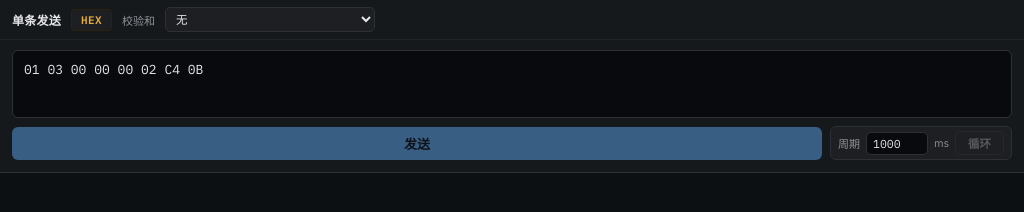
Test: SendPane › 含非法 UTF-8 字节的报文拒绝切成文本，并给出提示
Click the button titled "切换 TXT / HEX 模式" at point(92, 20), box [71, 8, 112, 30]
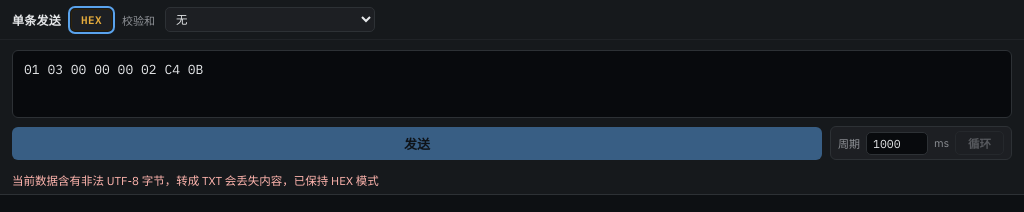
Check: the message shows "会丢失内容", box [12, 173, 379, 188]
